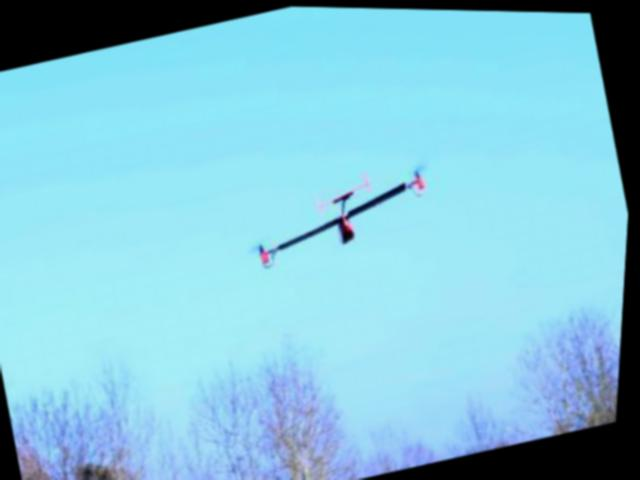uav: (236, 145, 452, 289)
